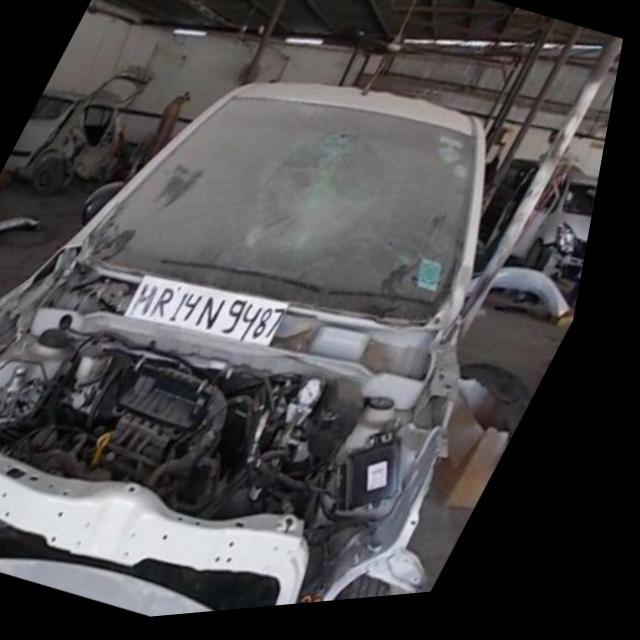glass shatter: (98, 97, 488, 330)
no part: (0, 296, 491, 622)
